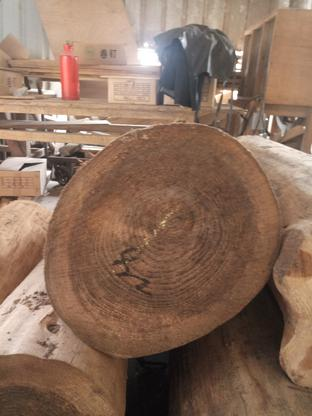mood: (44, 124, 283, 359)
